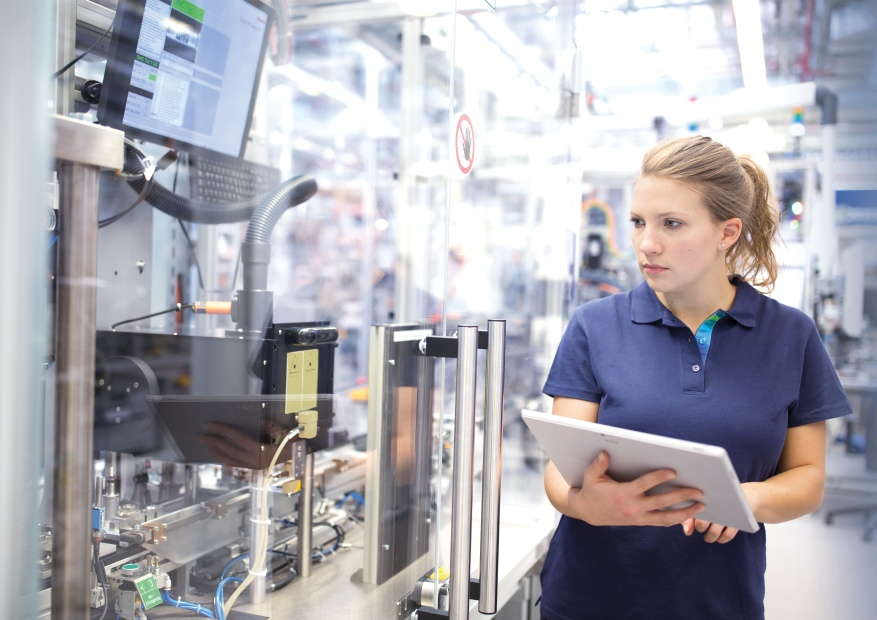person: (538, 132, 854, 620)
